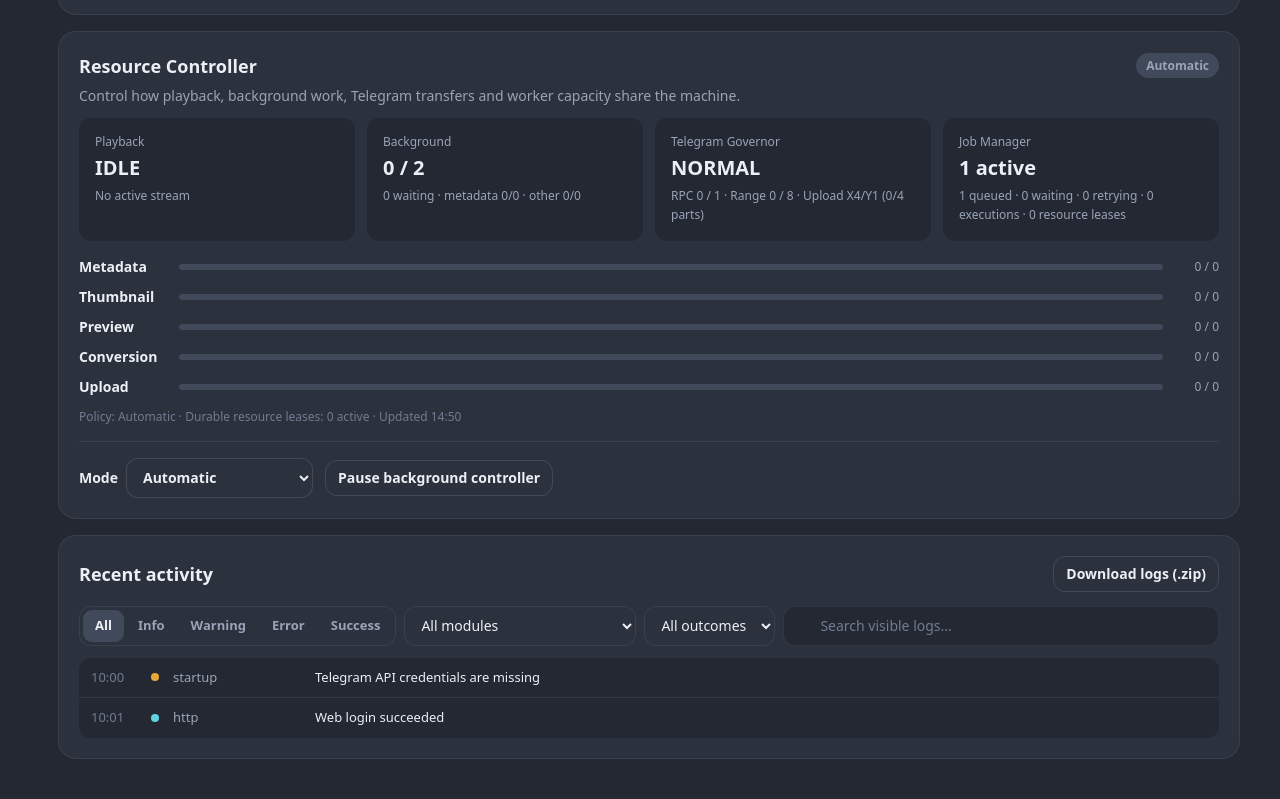
Scenario: OperationsPage › filters the activity log by level and text
(page scrolled)
Expected: the text "Web login succeeded" is shown, [315,708,444,726]
Click the button "Warning".
click(218, 626)  # box [179,610,258,642]
(page scrolled)
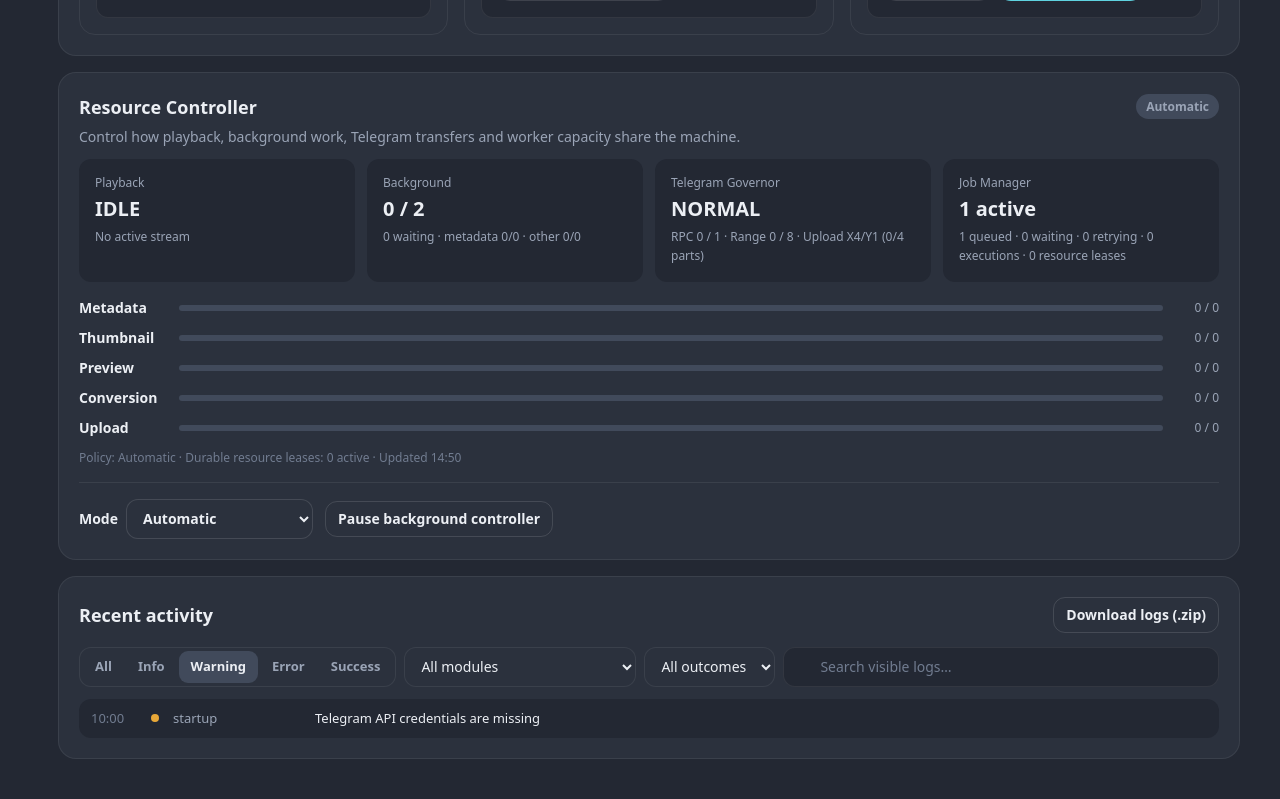
Expected: the text "Telegram API credentials are missing" is shown, [315,709,540,727]
Now the text "Web login succeeded" is gone
Click the button "All".
click(103, 667)  # box [83,651,124,683]
(page scrolled)
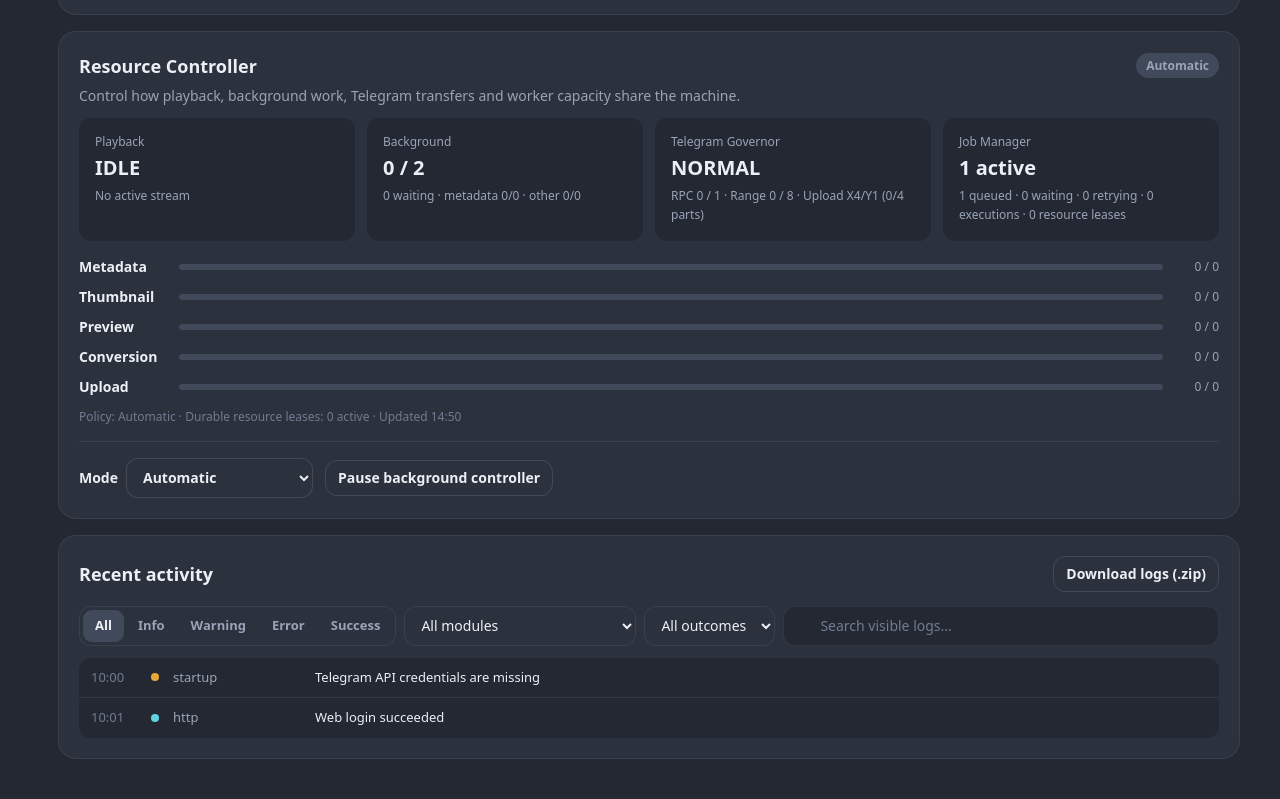
Type "zzz" into the field labelled "Search visible logs".
click(1013, 626); type("zzz")  # box [820,616,1206,636]
(page scrolled)
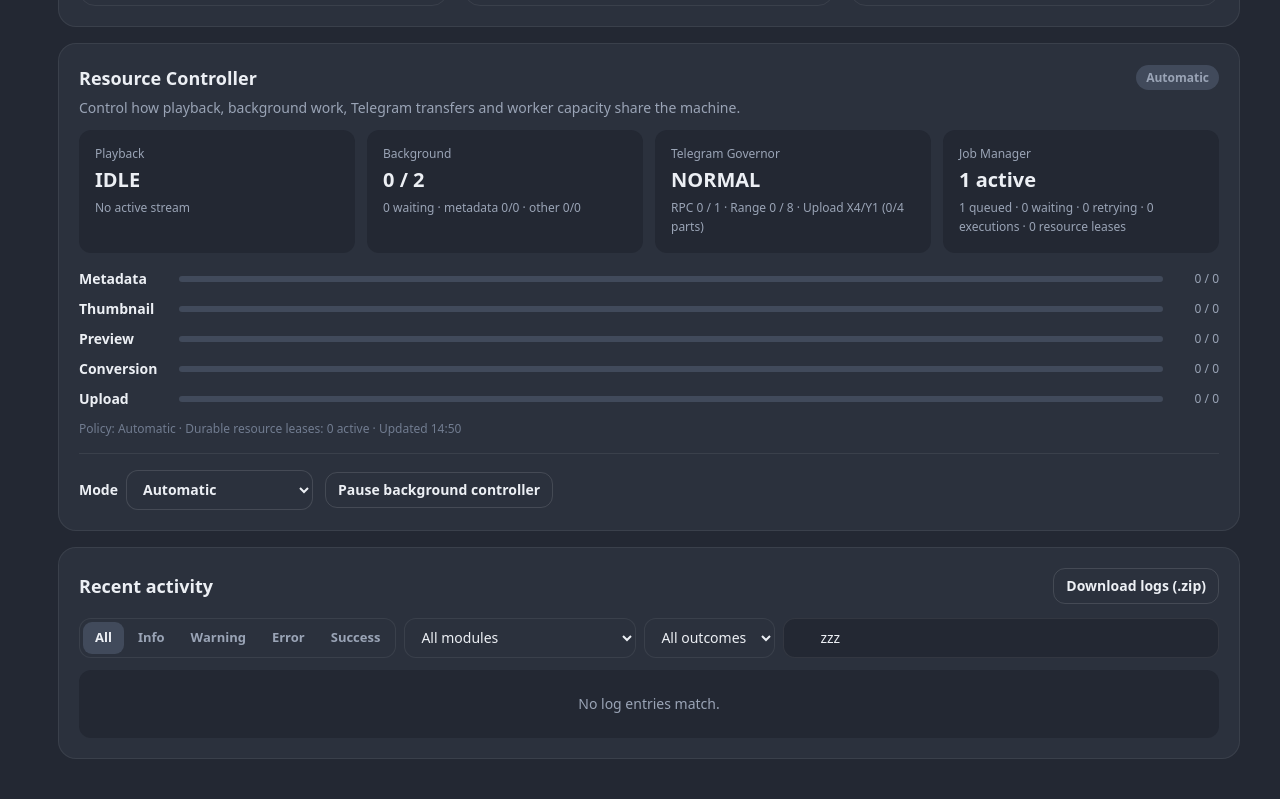
Now the list item "No log entries match." is shown, box [578,694,720,713]
